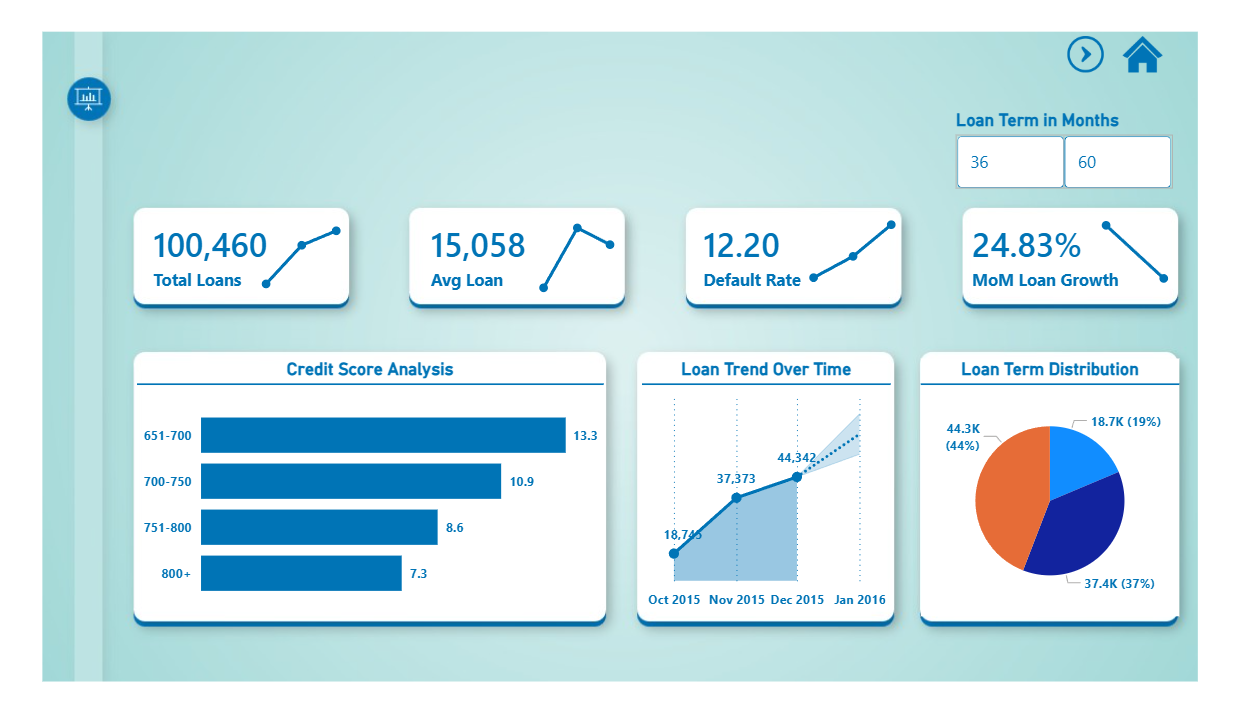

What the dashboard file says about the page in this screenshot:
{"tool":"powerbi","page":{"name":"Loan Analysis","canvas":[1280,720],"ordinal":1},"visuals":[{"type":"cardVisual","fields":{"Data":["Loans .Total Loans"]},"box":[160.5,188.2,220.8,146],"z":0},{"type":"cardVisual","fields":{"Data":["Loans .Monthly Loan Growth%"]},"box":[950.7,188.2,248.5,146],"z":1000},{"type":"cardVisual","fields":{"Data":["Loans .Default Rate"]},"box":[691.3,188.2,225.6,146],"z":2000},{"type":"cardVisual","fields":{"Data":["Loans .Avg Loan"]},"box":[428.3,188.2,224.4,146],"z":3000},{"type":"lineChart","fields":{"Y":["Loans .Total Loans"],"Category":["Calendar.Date"]},"box":[283.5,211.1,97.7,100.1],"z":4000},{"type":"lineChart","fields":{"Y":["Loans .MoM Loan Growth"],"Category":["Calendar.Date"]},"box":[1094.2,211.1,85.7,100.1],"z":5000},{"type":"lineChart","fields":{"Category":["Calendar.Date"],"Y":["Loans .Default Rate"]},"box":[811.9,211.1,105,100.1],"z":6000},{"type":"lineChart","fields":{"Y":["Loans .Avg Loan"],"Category":["Calendar.Date"]},"box":[551.3,201.5,94.1,100.1],"z":7000},{"type":"lineChart","title":"Loan Trend Over Time","fields":{"Y":["Loans .Total Loans"],"Category":["Calendar.Date"]},"box":[661.1,359.5,240.1,248.5],"z":8000},{"type":"pieChart","title":"Loan Term Distribution","fields":{"Category":["Calendar.Date"],"Y":["Loans .Total Loans"]},"box":[930.2,359.5,249.7,248.5],"z":9000},{"type":"barChart","title":"Credit Score Analysis","fields":{"Category":["Loans .Credit Score Range"],"Y":["Loans .Default Rate"]},"box":[173.7,359.5,450,248.5],"z":10000},{"type":"advancedSlicerVisual","title":"Loan Term in Months","fields":{"Values":["Loans .term_in_months"]},"box":[959.1,119.4,220.8,82],"z":11000},{"type":"image","box":[1055.6,48.3,67.6,35],"z":12000},{"type":"image","box":[1108.7,48.3,71.2,35],"z":13000}]}

Visuals, with their boxes in screenshot pixels (x1, y1, x2, y2), scaled from the page's 1280x720 canvas onto the 1258x709 screenshot:
cardVisual - Loans .Total Loans: locate(158, 185, 375, 329)
cardVisual - Loans .Monthly Loan Growth%: locate(934, 185, 1179, 329)
cardVisual - Loans .Default Rate: locate(679, 185, 901, 329)
cardVisual - Loans .Avg Loan: locate(421, 185, 641, 329)
lineChart - Loans .Total Loans x Calendar.Date: locate(279, 208, 375, 306)
lineChart - Loans .MoM Loan Growth x Calendar.Date: locate(1075, 208, 1160, 306)
lineChart - Calendar.Date x Loans .Default Rate: locate(798, 208, 901, 306)
lineChart - Loans .Avg Loan x Calendar.Date: locate(542, 198, 634, 297)
"Loan Trend Over Time" lineChart: locate(650, 354, 886, 599)
"Loan Term Distribution" pieChart: locate(914, 354, 1160, 599)
"Credit Score Analysis" barChart: locate(171, 354, 613, 599)
"Loan Term in Months" advancedSlicerVisual: locate(943, 118, 1160, 198)
image: locate(1037, 48, 1104, 82)
image: locate(1090, 48, 1160, 82)
